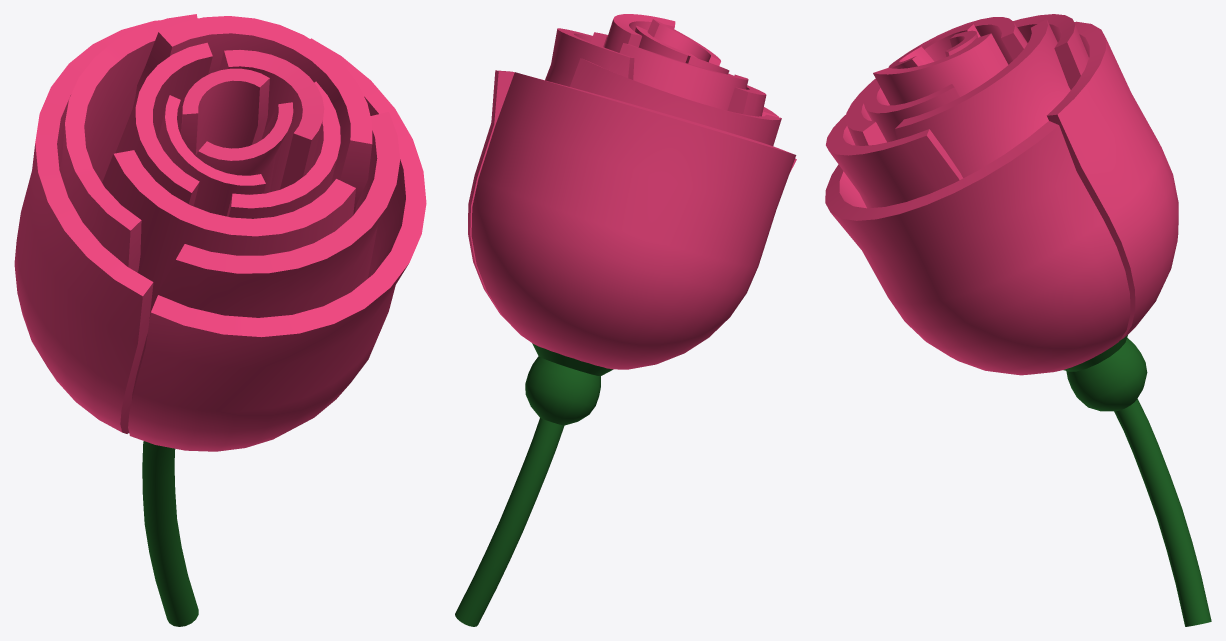
File: tulip.glb
The picture shows the model from 3 angles, left to right: view 1: azimuth 30°, elevation 25°; view 2: azimuth 150°, elevation 25°; view 3: azimuth 270°, elevation 25°; orthographic projection. The views are drawn at different scales.
Visible parts, largest first — view 1: Sphere.391, Circle.2048; view 2: Sphere.391, Circle.2048; view 3: Sphere.391, Circle.2048.
Part boxes in pixels (x1,y1,x2,y2): Sphere.391: (14,14,426,451); Circle.2048: (142,441,198,626); Sphere.391: (468,14,796,369); Circle.2048: (455,343,613,626); Sphere.391: (825,14,1178,375); Circle.2048: (1063,335,1211,626).
Bounding box in the file's own units: 1.22 × 2.32 × 1.43.
1 material, 1 textured.
